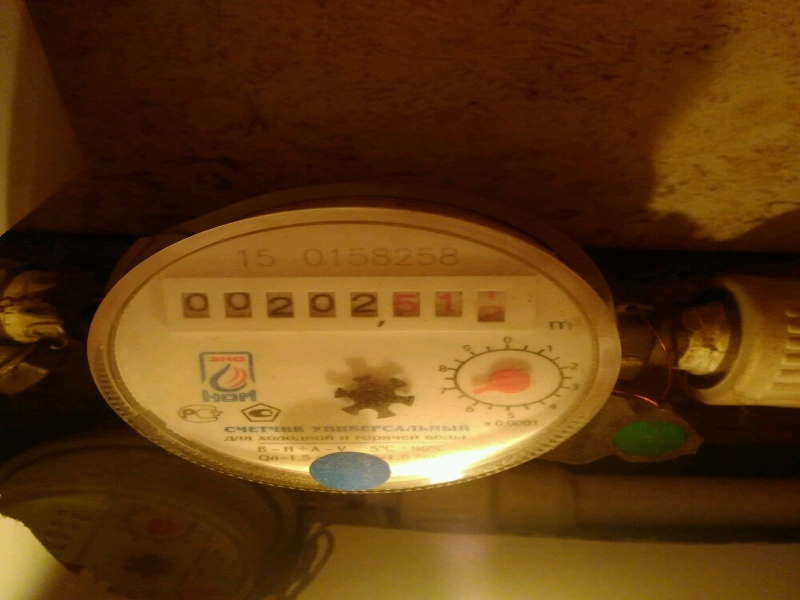dial: (173, 284, 502, 328)
